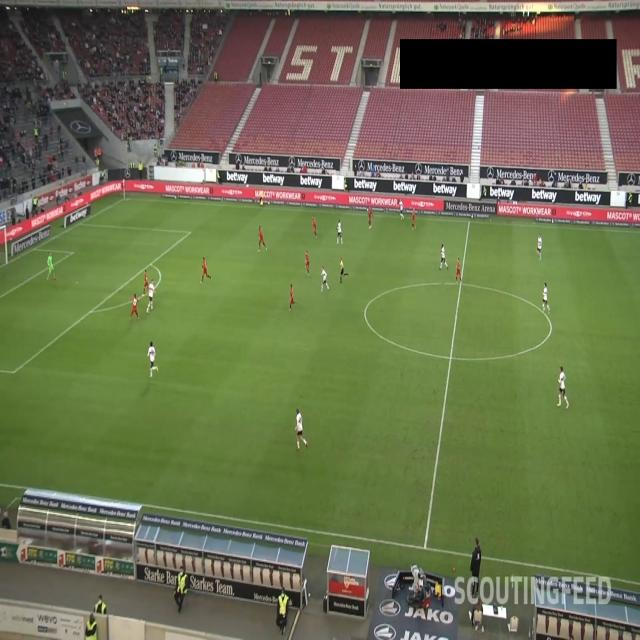f_player: (294, 409, 307, 452), (557, 367, 568, 407), (46, 252, 58, 282), (148, 278, 158, 314), (148, 342, 158, 374), (288, 282, 298, 314), (200, 258, 212, 283), (302, 252, 314, 276), (256, 226, 267, 252), (130, 294, 140, 320), (542, 284, 550, 314), (319, 266, 328, 291), (336, 219, 344, 246), (440, 242, 448, 268), (536, 234, 544, 260), (366, 206, 374, 232), (455, 257, 462, 282), (144, 268, 150, 296), (412, 208, 418, 231), (399, 199, 405, 221), (312, 218, 318, 238)
umpire: (339, 257, 347, 283), (259, 188, 264, 208)
